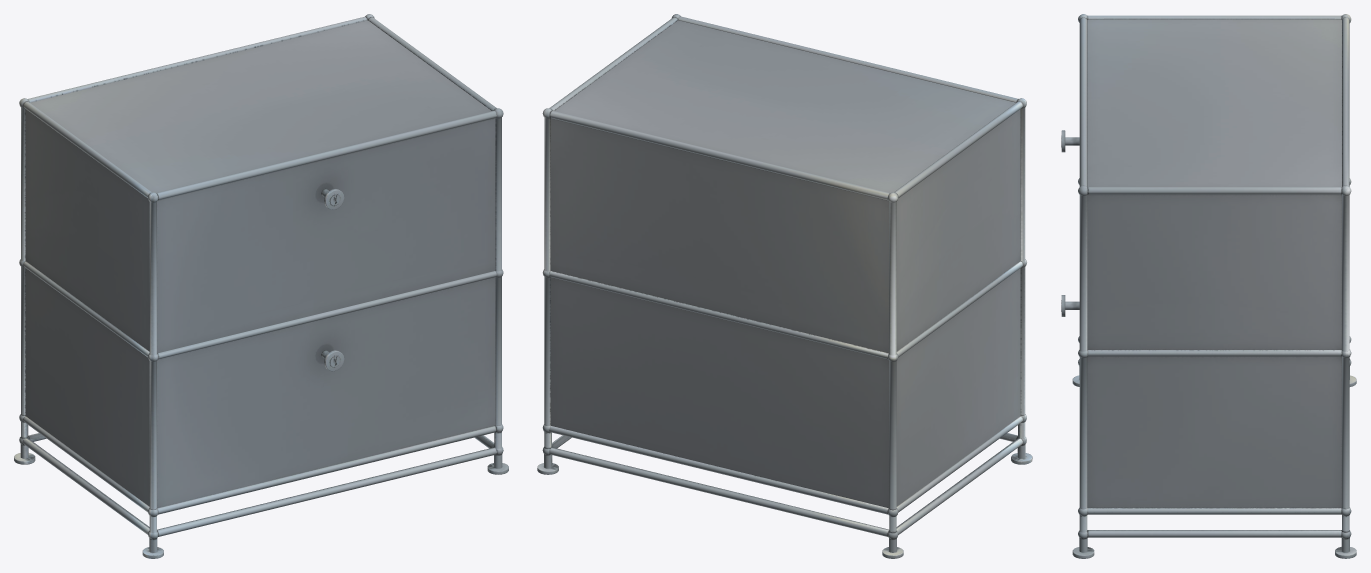
The model's file is usm_sideboard_ii_white_chrome_plated.glb.
3 renders of one model, left to right at view 1: azimuth 30°, elevation 25°; view 2: azimuth 150°, elevation 25°; view 3: azimuth 270°, elevation 25°, orthographic.
Visible parts, largest first — view 1: usm_sideboard_ii-white; view 2: usm_sideboard_ii-white; view 3: usm_sideboard_ii-white.
Boxes of the visible parts, x1=… form: usm_sideboard_ii-white: x1=14, y1=14, x2=508, y2=558; usm_sideboard_ii-white: x1=537, y1=14, x2=1032, y2=558; usm_sideboard_ii-white: x1=1061, y1=14, x2=1356, y2=558.
Bounding box in the file's own units: 0.7853 × 0.7462 × 0.5425.
1 material, 1 textured.
